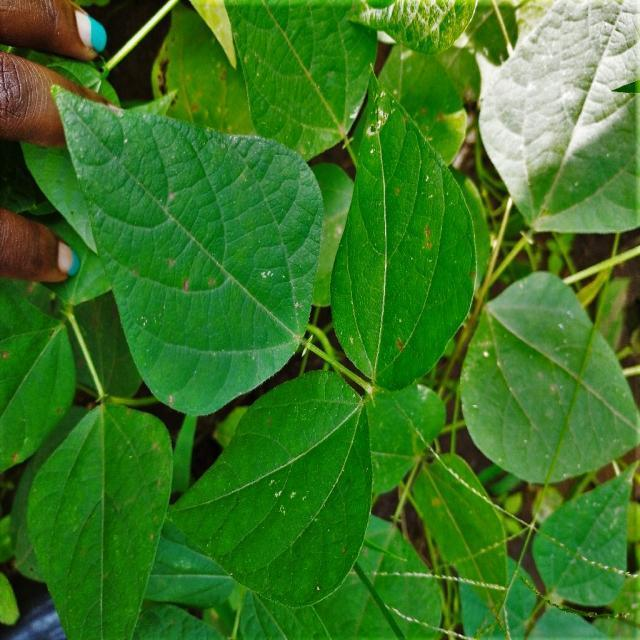embun tepung: (249, 255, 286, 306)
hawar: (346, 83, 417, 179)
sehat: (110, 199, 227, 392), (31, 459, 139, 627)
